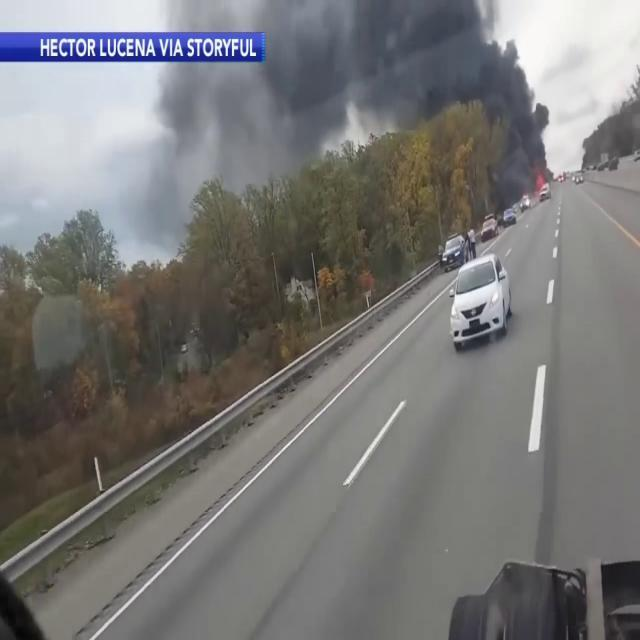Fire: (534, 171, 548, 204)
Smoke: (150, 0, 550, 195)
